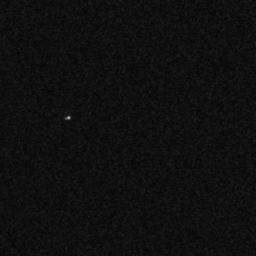ship: (63, 115, 72, 121)
